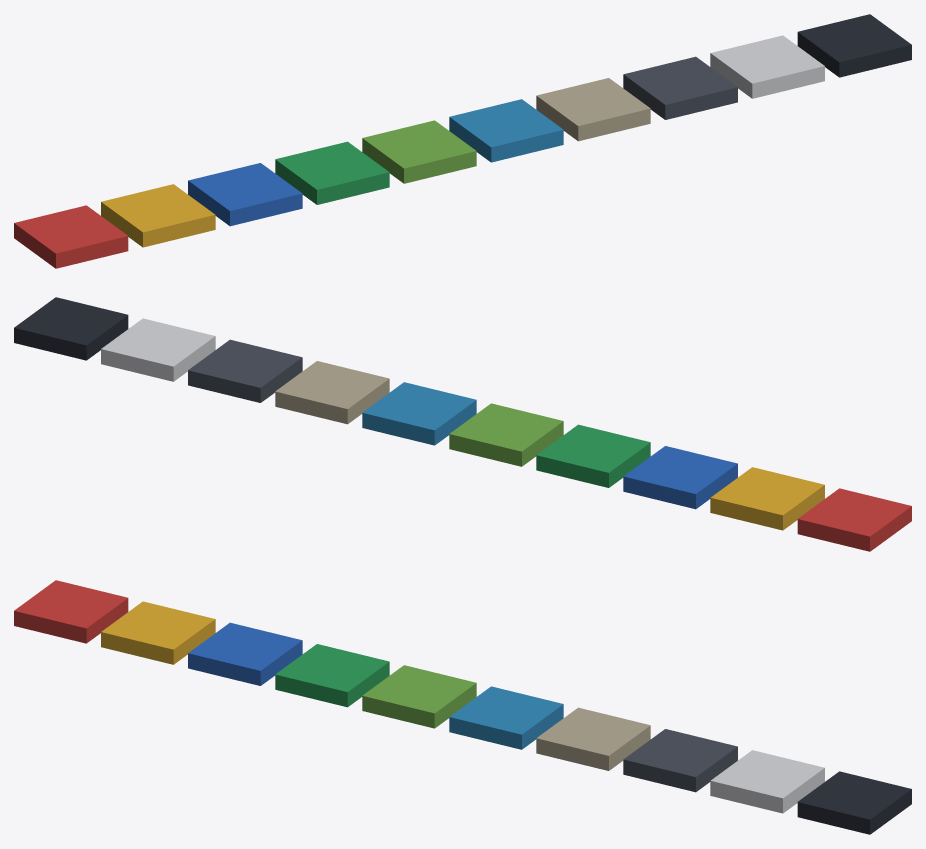
File: swatch.glb
3 renders of one model, top to bottom at view 1: azimuth 30°, elevation 25°; view 2: azimuth 150°, elevation 25°; view 3: azimuth 330°, elevation 25°, orthographic.
Visible parts, largest first — view 1: swatch; view 2: swatch; view 3: swatch.
Part boxes in pixels (x1,y1,x2,y2): swatch: (14, 14, 911, 268); swatch: (14, 297, 911, 551); swatch: (14, 580, 911, 834).
Size of the model in its own units: 11.8 by 0.2 by 1.
